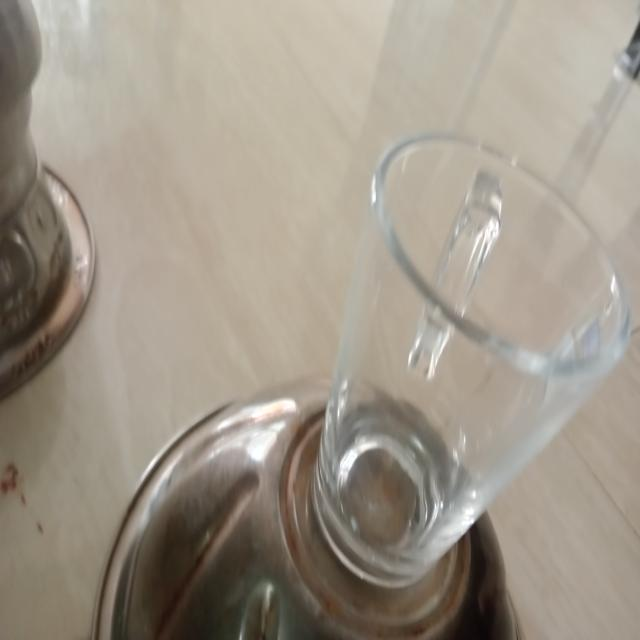glass-VX4N: (312, 127, 638, 583)
